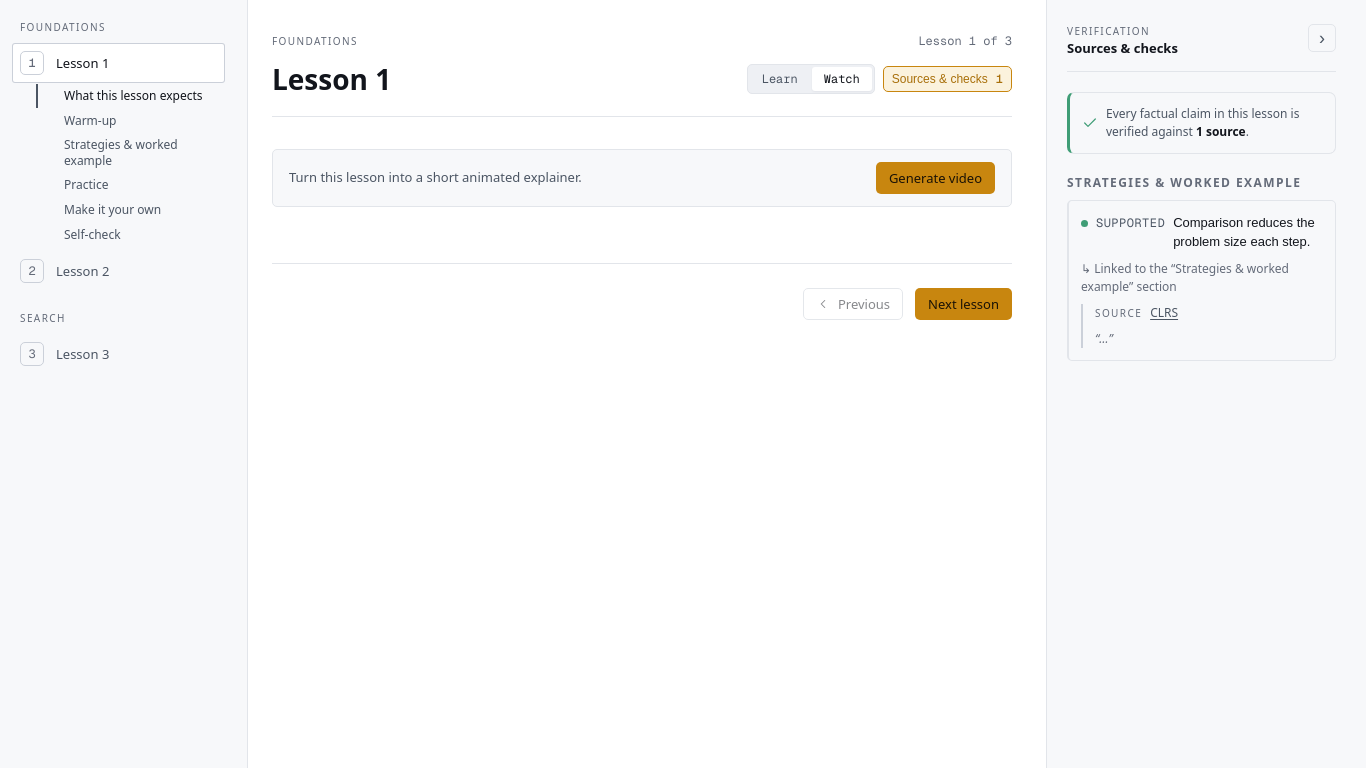
Test: CourseReader — Watch-mode footer navigation › steps forward with Next and swaps in Finish on the last lesson
Expected: the radio button labelled "Watch" is shown, 812,67 -> 872,91
// Act — advance through every lesson.
Click the button "Next lesson" at (964, 304), box 915,288 -> 1012,320
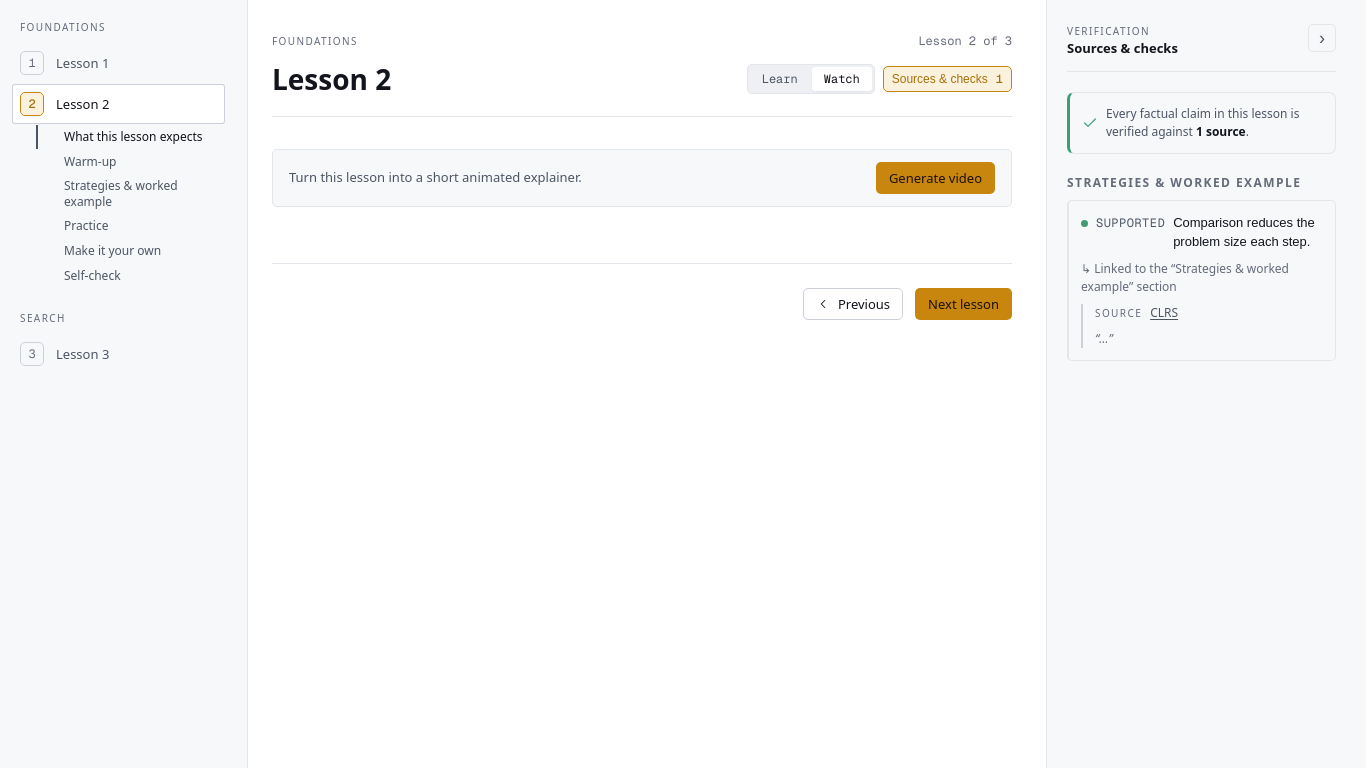
Expected: the text "Lesson 2 of 3" is shown, 918,32 -> 1012,50
Click the button "Next lesson" at (964, 304), box 915,288 -> 1012,320
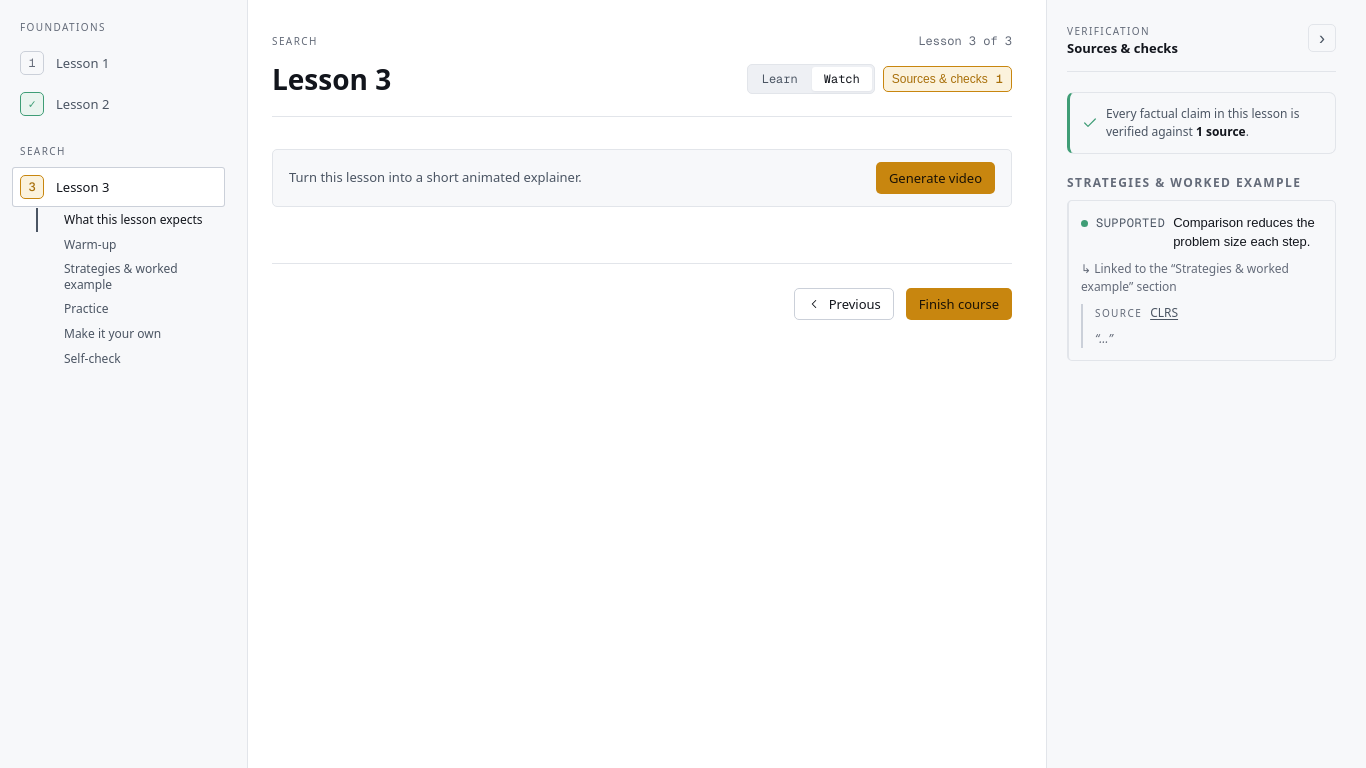
Expected: the text "Lesson 3 of 3" is shown, 918,32 -> 1012,50
Expected: the button "Next lesson" is gone
Expected: the button "Finish course" is shown, 906,288 -> 1012,320
